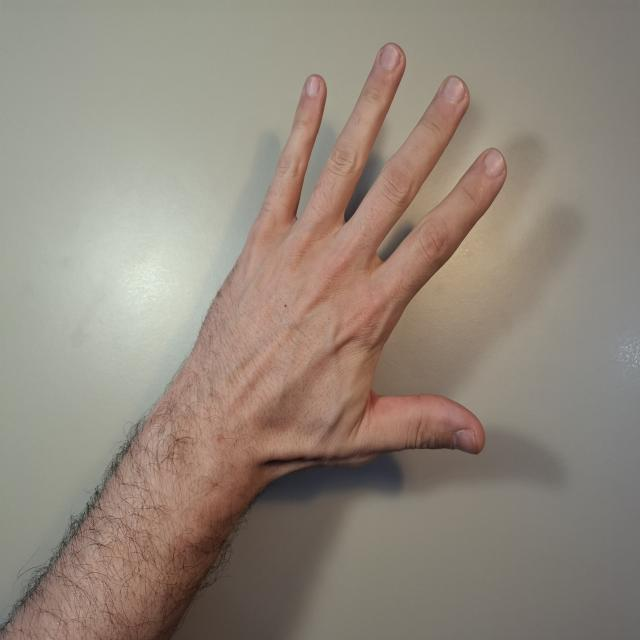glove_off: (218, 40, 511, 494)
